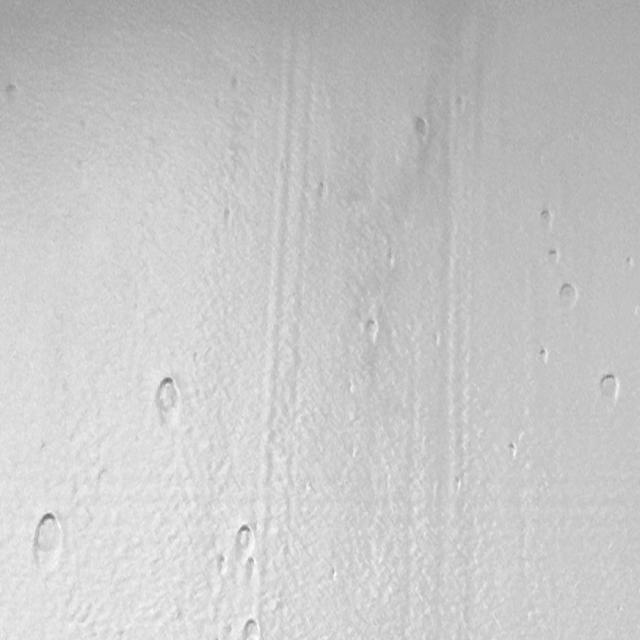pin holes: (26, 507, 68, 574), (153, 374, 186, 428), (594, 372, 621, 407), (232, 525, 257, 555), (556, 280, 581, 309), (360, 316, 381, 344), (411, 114, 432, 141), (536, 207, 555, 235), (240, 616, 262, 640), (2, 82, 22, 105), (312, 180, 330, 205), (243, 558, 260, 584), (451, 93, 468, 118), (545, 248, 563, 270), (216, 551, 230, 577), (537, 346, 552, 365), (386, 250, 398, 272), (506, 441, 520, 459), (451, 476, 463, 494), (624, 255, 635, 272)
